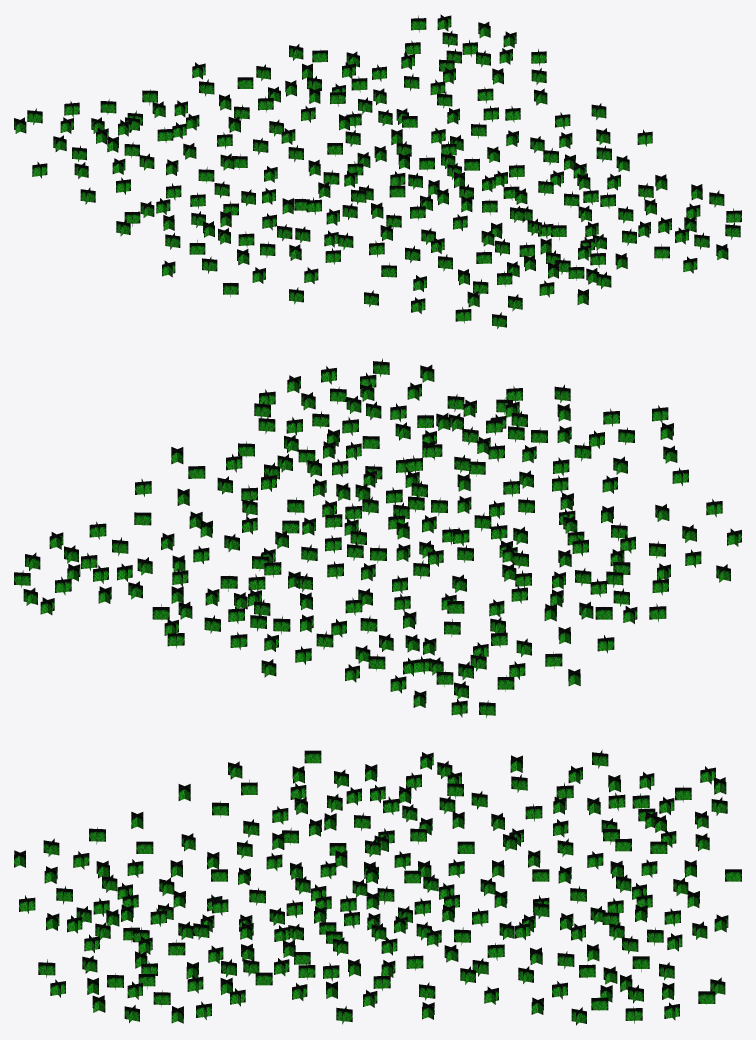
The model's file is grassModel.obj.
3 renders of one model, top to bottom at view 1: azimuth 30°, elevation 25°; view 2: azimuth 150°, elevation 25°; view 3: azimuth 270°, elevation 25°, orthographic. The views are drawn at different scales.
Parts seen in each view (by area): view 1: Plane.008, Plane.002, Plane.003, Plane.006, Plane, Plane.001, Plane.004, Plane.007, Plane.005; view 2: Plane.006, Plane.004, Plane.008, Plane.007, Plane, Plane.003, Plane.002, Plane.001, Plane.005; view 3: Plane.007, Plane.003, Plane.002, Plane.004, Plane.001, Plane.008, Plane.006, Plane.005, Plane.
Boxes of the visible parts, box(x1,y1,x2,y2) form: Plane.008: box(14, 99, 234, 217); Plane.002: box(116, 189, 353, 304); Plane.003: box(450, 88, 667, 208); Plane.006: box(125, 44, 372, 154); Plane: box(277, 152, 524, 262); Plane.001: box(214, 109, 461, 219); Plane.004: box(364, 218, 611, 328); Plane.007: box(332, 14, 546, 128); Plane.005: box(481, 184, 741, 284); Plane.006: box(164, 573, 431, 682); Plane.004: box(422, 384, 688, 493); Plane.008: box(368, 599, 614, 717); Plane.007: box(14, 520, 300, 620); Plane: box(322, 455, 588, 562); Plane.003: box(134, 416, 382, 534); Plane.002: box(512, 499, 741, 623); Plane.001: box(261, 502, 527, 610); Plane.005: box(254, 358, 512, 476); Plane.007: box(472, 900, 725, 1025); Plane.003: box(220, 922, 498, 1024); Plane.002: box(178, 750, 463, 849); Plane.004: box(14, 811, 227, 942); Plane.001: box(335, 812, 549, 945); Plane.008: box(447, 750, 727, 851); Plane.006: box(528, 812, 741, 945); Plane.005: box(38, 894, 259, 1023); Plane: box(207, 813, 420, 943).
Size of the model in its own units: 44.85 by 1.34 by 51.81.
9 materials, 9 textured.
